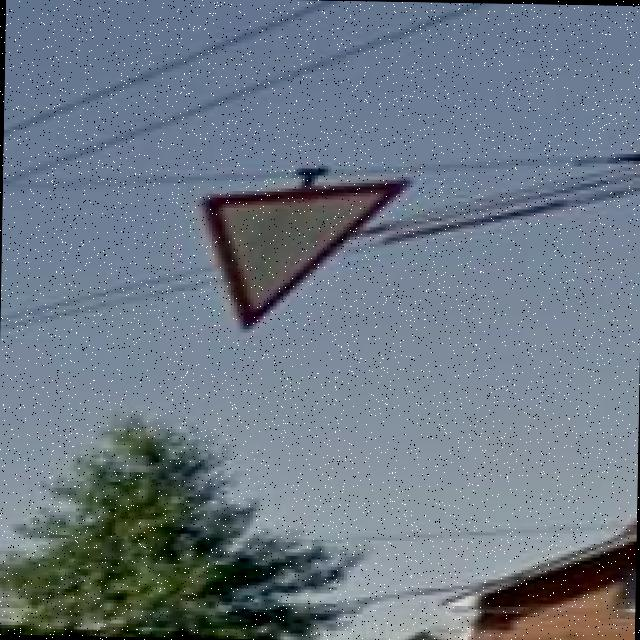Ustap pierwszenstwa: (200, 172, 410, 332)
